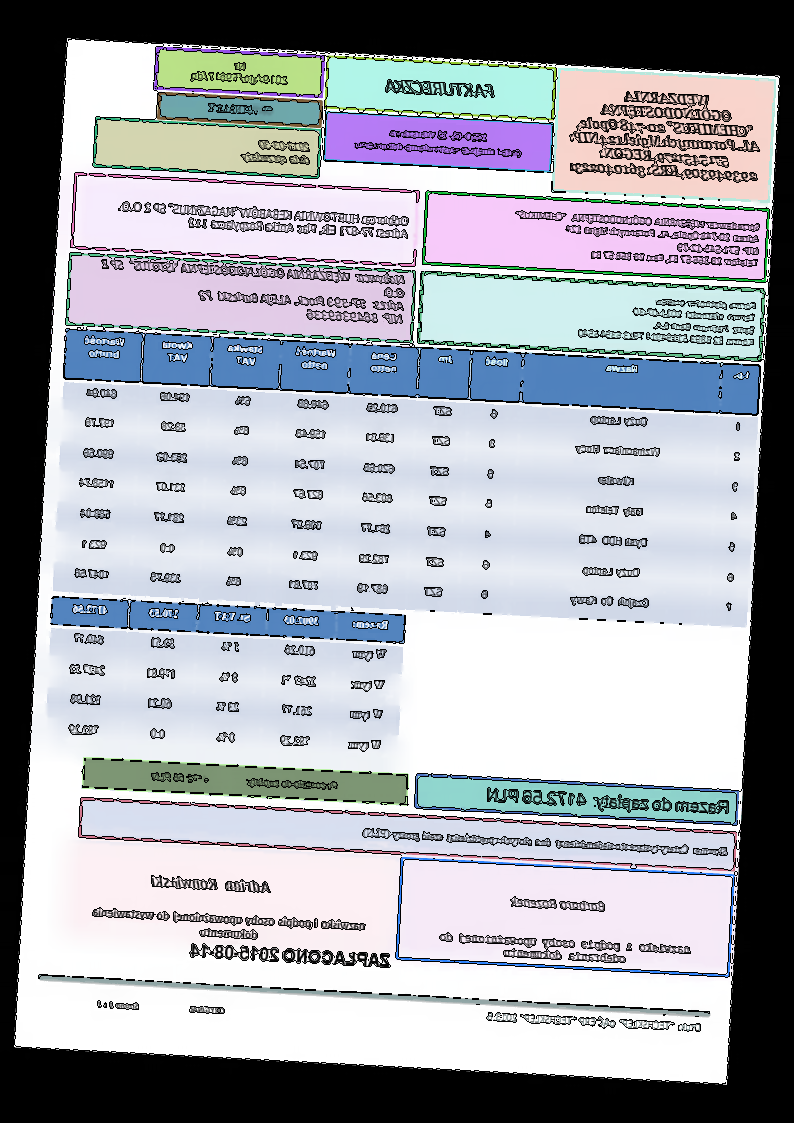Table: (50, 327, 763, 631), (42, 594, 408, 768)
TextBox: (96, 254, 409, 327), (564, 86, 766, 186), (510, 207, 764, 272), (115, 197, 412, 244), (361, 824, 730, 861), (87, 903, 368, 946), (436, 926, 693, 969), (578, 289, 758, 348), (484, 783, 731, 819), (352, 122, 526, 161), (190, 939, 394, 971), (483, 1006, 705, 1035), (150, 768, 342, 795), (188, 56, 291, 89), (149, 873, 274, 896), (384, 75, 498, 100), (94, 996, 227, 1017), (238, 134, 314, 169), (506, 893, 609, 915), (205, 99, 277, 118)
